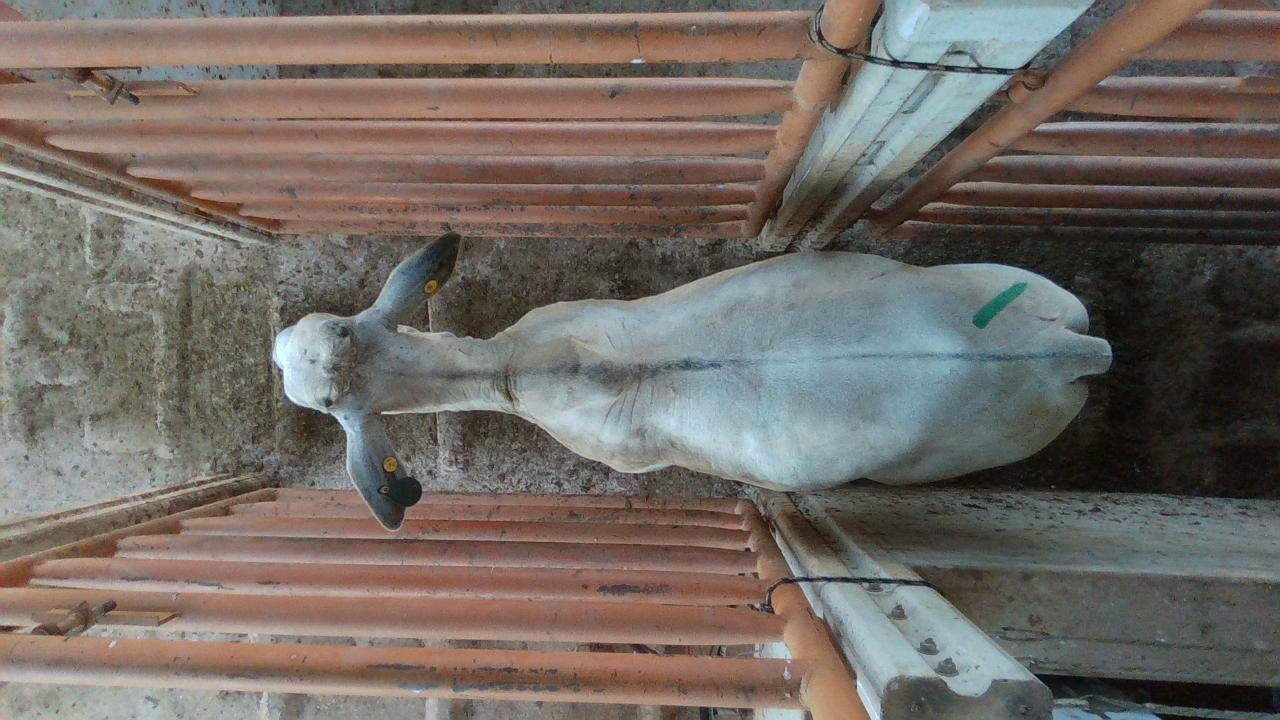cattle: (270, 230, 1113, 531)
